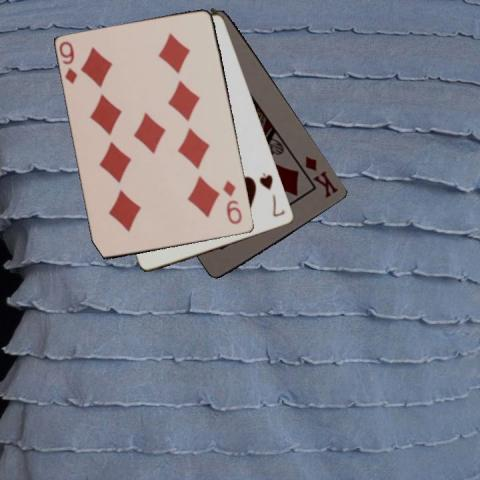7s: (256, 169, 286, 219)
9d: (220, 177, 243, 226), (57, 39, 79, 86)
Kd: (302, 153, 341, 199)
